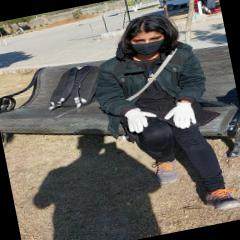gloved: (162, 97, 198, 132), (123, 105, 158, 134)
